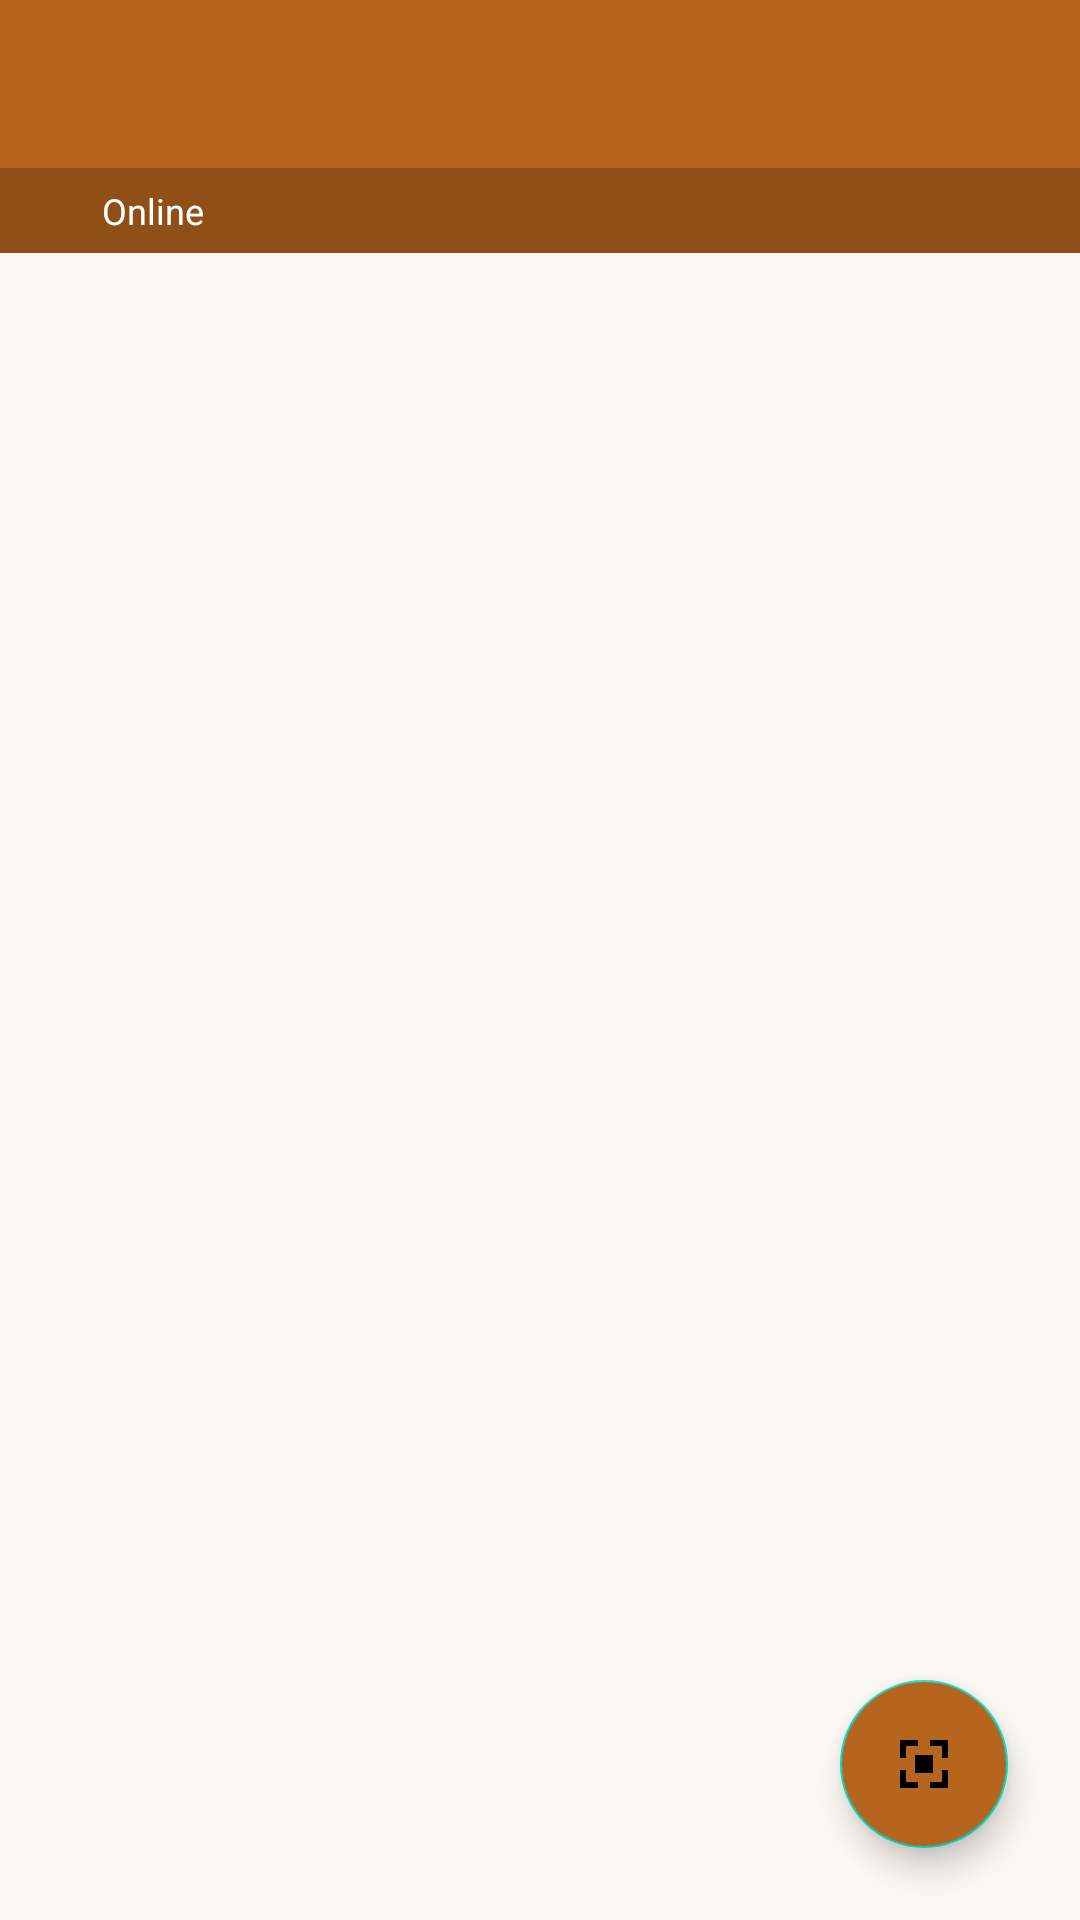

Icons on this 1080*1920 Android screen, each with its box as bbox(x1, y1, x2, y2):
Pindai QR: bbox(840, 1680, 1008, 1848)
